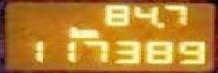-: (154, 20, 163, 27)
1: (63, 39, 74, 63), (32, 39, 43, 61)
3: (109, 39, 140, 63)
4: (131, 4, 158, 24)
7: (78, 39, 107, 61), (162, 4, 187, 25)
8: (143, 39, 172, 64), (100, 2, 129, 25)
X: (80, 28, 98, 38), (67, 25, 80, 38)
